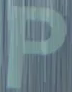Parking: (5, 3, 65, 89)
